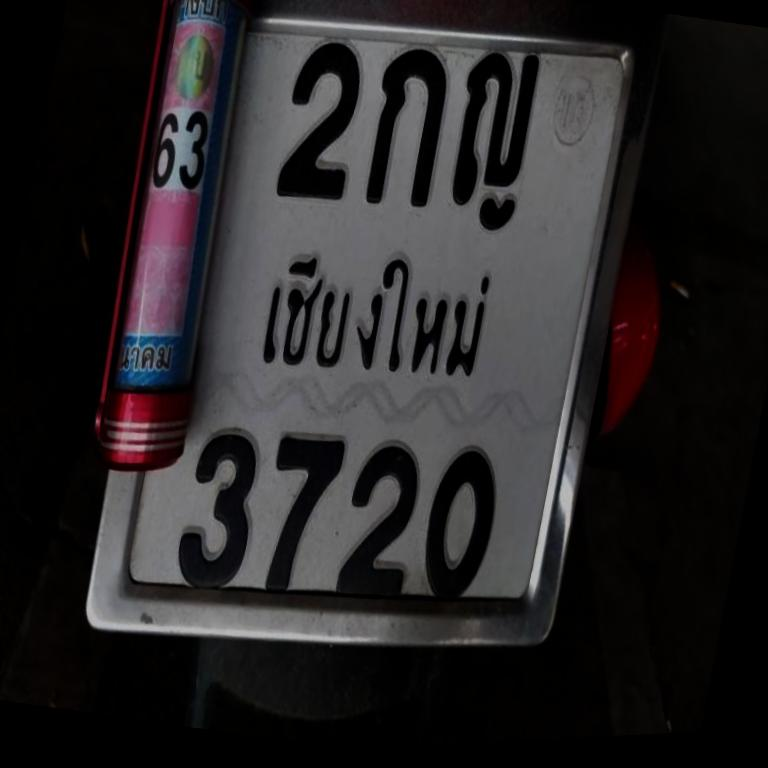license plate: (30, 0, 689, 729)
